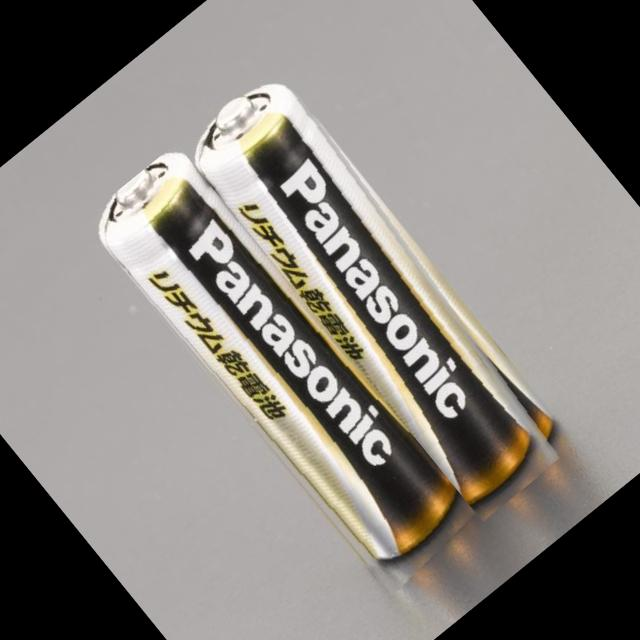Hazard: (77, 140, 487, 602), (177, 62, 584, 522)
